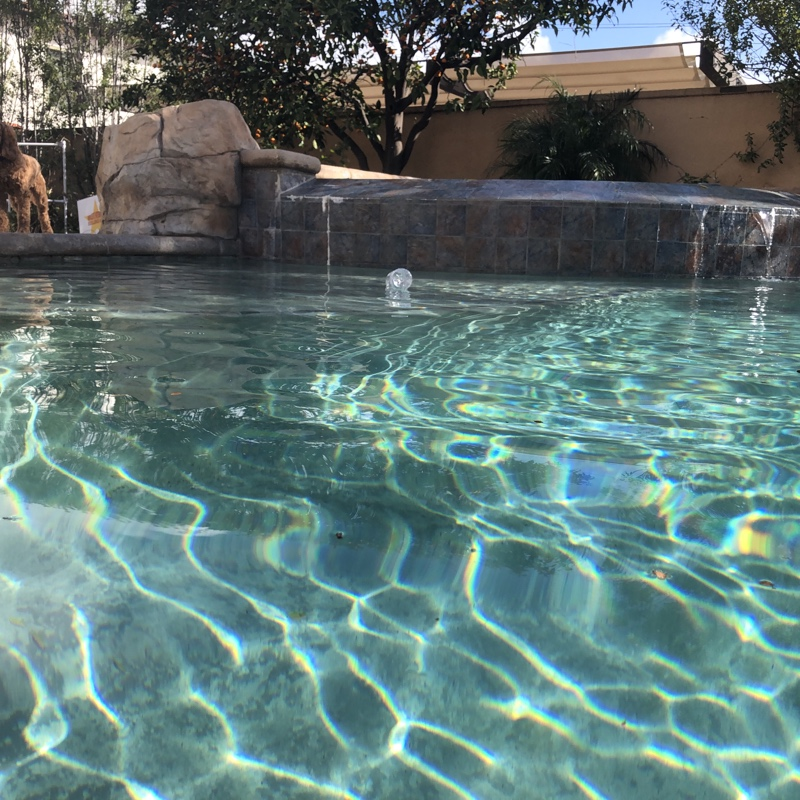Plastic Bottle: (380, 266, 414, 297)
